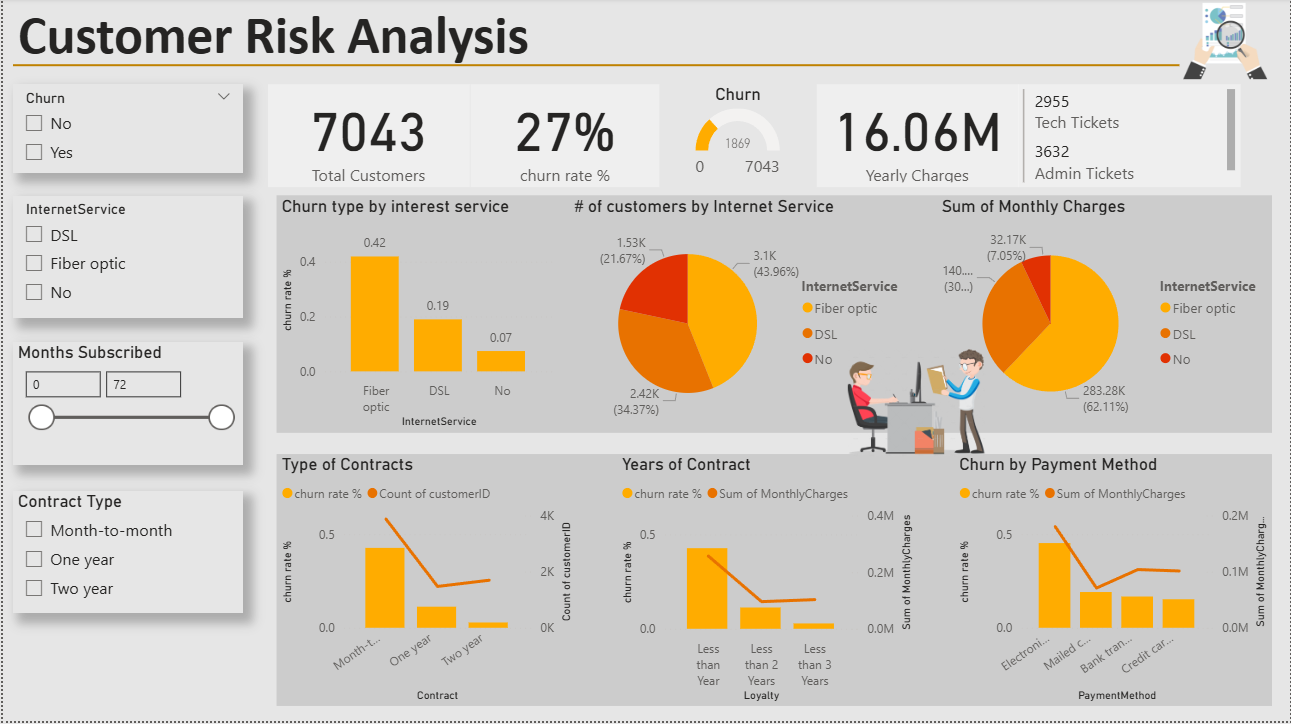

The dashboard page shown, as its layout file describes it:
{"tool":"powerbi","page":{"name":"Customer Risk Analysis","canvas":[1280,720],"ordinal":2},"visuals":[{"type":"textbox","box":[9.8,0,629.8,85.6],"z":0},{"type":"slicer","fields":{"Values":["Churn.Churn"]},"box":[9.8,85.6,228.7,88],"z":1000},{"type":"slicer","fields":{"Values":["Churn.InternetService"]},"box":[9.8,196.9,228.7,122.3],"z":2000},{"type":"slicer","title":"Months Subscribed","fields":{"Values":["Churn.tenure"]},"box":[9.8,342.4,228.7,122.3],"z":3000},{"type":"slicer","title":"Contract Type","fields":{"Values":["Churn.Contract"]},"box":[9.8,490.4,228.7,122.3],"z":4000},{"type":"card","fields":{"Values":["Count(Churn.customerID)"]},"box":[264.1,85.6,200.5,102.7],"z":5000},{"type":"card","fields":{"Values":["Churn.churn rate %"]},"box":[464.7,85.6,188.3,102.7],"z":6000},{"type":"gauge","title":"Churn","fields":{"Y":["Churn.Count of Churn for Yes"],"MaxValue":["CountNonNull(Churn.customerID)"]},"box":[653,85.6,156.5,102.7],"z":7000},{"type":"card","fields":{"Values":["Sum(Churn.TotalCharges)"]},"box":[809.5,85.6,200.5,102.7],"z":8000},{"type":"multiRowCard","fields":{"Values":["Sum(Churn.numTechTickets)","Sum(Churn.numAdminTickets)"]},"box":[1010.1,85.6,221.3,102.7],"z":9000},{"type":"shape","box":[272.7,196.9,990.5,236],"z":10000},{"type":"shape","box":[272.7,453.7,990.5,250.7],"z":10001},{"type":"clusteredColumnChart","title":"Churn type by interest service","fields":{"Y":["Churn.churn rate %"],"Category":["Churn.InternetService"]},"box":[272.7,196.9,280,236],"z":10002},{"type":"pieChart","title":"# of customers by Internet Service","fields":{"Category":["Churn.InternetService"],"Y":["CountNonNull(Churn.customerID)"]},"box":[563.7,196.9,346.1,236],"z":10003},{"type":"pieChart","title":"Sum of Monthly Charges ","fields":{"Category":["Churn.InternetService"],"Y":["Sum(Churn.MonthlyCharges)"]},"box":[929.4,196.9,333.8,236],"z":10004},{"type":"lineStackedColumnComboChart","title":"Type of Contracts","fields":{"Category":["Churn.Contract"],"Y":["Churn.churn rate %"],"Y2":["CountNonNull(Churn.customerID)"]},"box":[272.7,453.7,299.6,250.7],"z":10005},{"type":"lineStackedColumnComboChart","title":"Years of Contract","fields":{"Y":["Churn.churn rate %"],"Y2":["Sum(Churn.MonthlyCharges)"],"Category":["Churn (2).Loyalty"]},"box":[610.2,453.7,299.6,250.7],"z":10006},{"type":"lineStackedColumnComboChart","title":"Churn by Payment Method","fields":{"Y":["Churn.churn rate %"],"Y2":["Sum(Churn.MonthlyCharges)"],"Category":["Churn.PaymentMethod"]},"box":[946.5,453.7,316.7,250.7],"z":10007},{"type":"image","box":[1153.1,0,127.2,85.6],"z":10008},{"type":"shape","box":[9.8,24.5,1160.5,84.4],"z":10010},{"type":"image","box":[836.4,330.2,146.7,146.7],"z":10011}]}

Visuals, with their boxes in screenshot pixels (x1, y1, x2, y2), scaled from the page's 1280x720 canvas onto the 1291x724 screenshot:
textbox: bbox=(10, 0, 645, 86)
slicer - Churn.Churn: bbox=(10, 86, 241, 175)
slicer - Churn.InternetService: bbox=(10, 198, 241, 321)
"Months Subscribed" slicer: bbox=(10, 344, 241, 467)
"Contract Type" slicer: bbox=(10, 493, 241, 616)
card - Count(Churn.customerID): bbox=(266, 86, 469, 189)
card - Churn.churn rate %: bbox=(469, 86, 659, 189)
"Churn" gauge: bbox=(659, 86, 816, 189)
card - Sum(Churn.TotalCharges): bbox=(816, 86, 1019, 189)
multiRowCard - Sum(Churn.numTechTickets) x Sum(Churn.numAdminTickets): bbox=(1019, 86, 1242, 189)
shape: bbox=(275, 198, 1274, 435)
shape: bbox=(275, 456, 1274, 708)
"Churn type by interest service" clusteredColumnChart: bbox=(275, 198, 557, 435)
"# of customers by Internet Service" pieChart: bbox=(569, 198, 918, 435)
"Sum of Monthly Charges " pieChart: bbox=(937, 198, 1274, 435)
"Type of Contracts" lineStackedColumnComboChart: bbox=(275, 456, 577, 708)
"Years of Contract" lineStackedColumnComboChart: bbox=(615, 456, 918, 708)
"Churn by Payment Method" lineStackedColumnComboChart: bbox=(955, 456, 1274, 708)
image: bbox=(1163, 0, 1290, 86)
shape: bbox=(10, 25, 1180, 110)
image: bbox=(844, 332, 992, 480)
